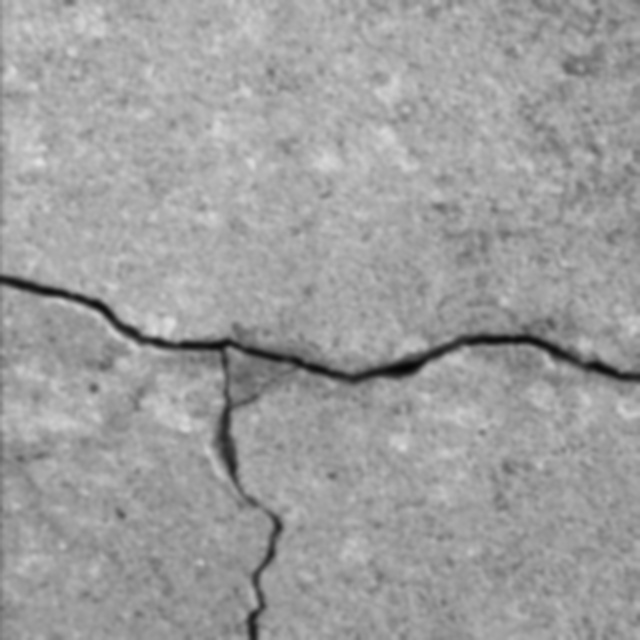SurfaceCrack: (2, 242, 640, 446)
